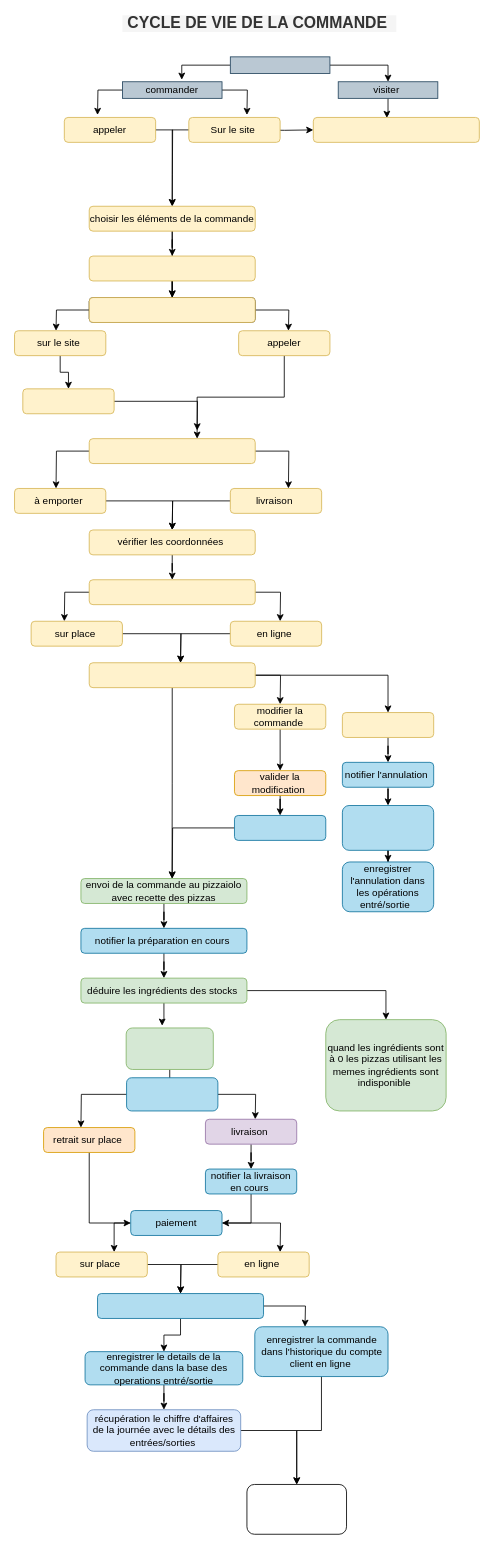
Some shapes in this 494 by 1549 pixel diagram are drawn without their labels. The centre of each missing label's shape, as x and y in pixels:
"annuler la commande" belongs at point (388, 724).
"choisir la livraison" belongs at point (171, 451).
"choisir le paiement" belongs at point (171, 592).
"confirmer la commande" belongs at point (171, 309).
"confirmer la réception de la commande" belongs at point (180, 1305).
"créer un compte client" belongs at point (68, 401).
"enregistrer dans le compteur des visites" belongs at point (395, 129).
"fin de la commande" belongs at point (296, 1509).
"le client veut ..." belongs at point (279, 64).
"notifier la modification" belongs at point (280, 827).
"notifier que la commande est prête" belongs at point (172, 1094).
"retrait de la liste d'exécution une fois prête" belongs at point (169, 1048).
"récapituler la commande" belongs at point (171, 268).
"sauvegarder la commande annulée dans le compte client" belongs at point (388, 827).
"valider la commande" belongs at point (171, 675).
